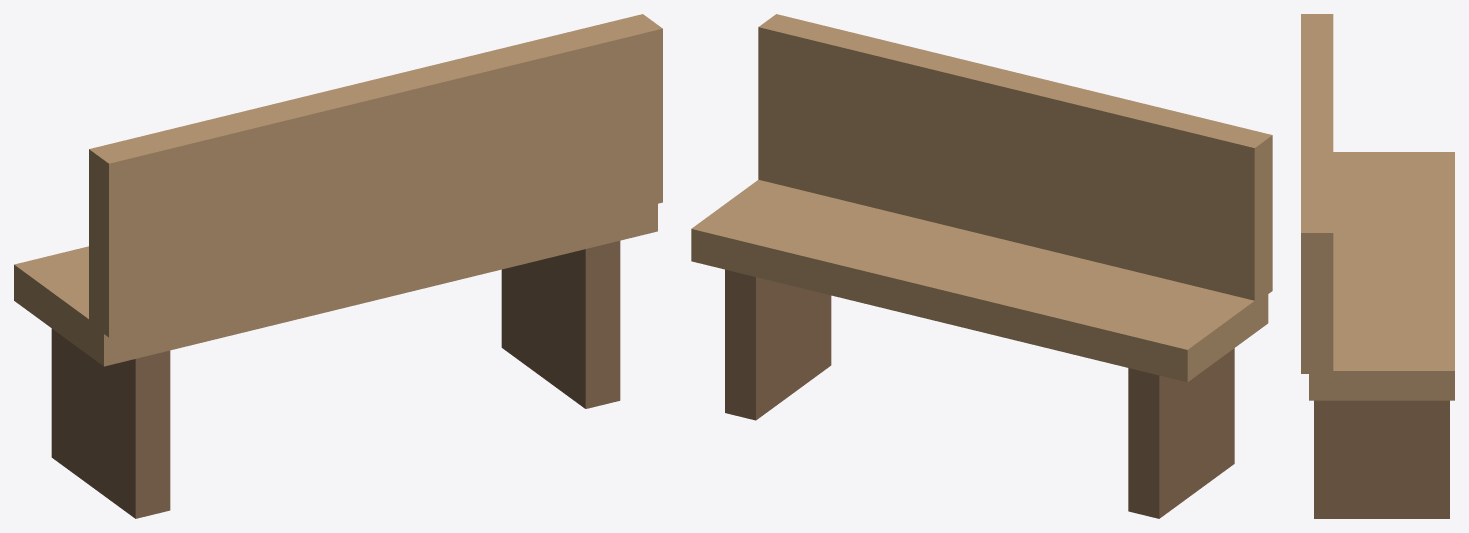
The model's file is PROP-bench-01.glb.
3 renders of one model, left to right at view 1: azimuth 30°, elevation 25°; view 2: azimuth 150°, elevation 25°; view 3: azimuth 270°, elevation 25°, orthographic. The views are drawn at different scales.
Visible parts, largest first — view 1: PROP-bench-01; view 2: PROP-bench-01; view 3: PROP-bench-01.
Part boxes in pixels (left/top/right/bottom): PROP-bench-01: left=14, top=14, right=662, bottom=518; PROP-bench-01: left=691, top=14, right=1272, bottom=518; PROP-bench-01: left=1301, top=14, right=1454, bottom=518.
Size of the model in its own units: 1.6 by 1.02 by 0.475.
